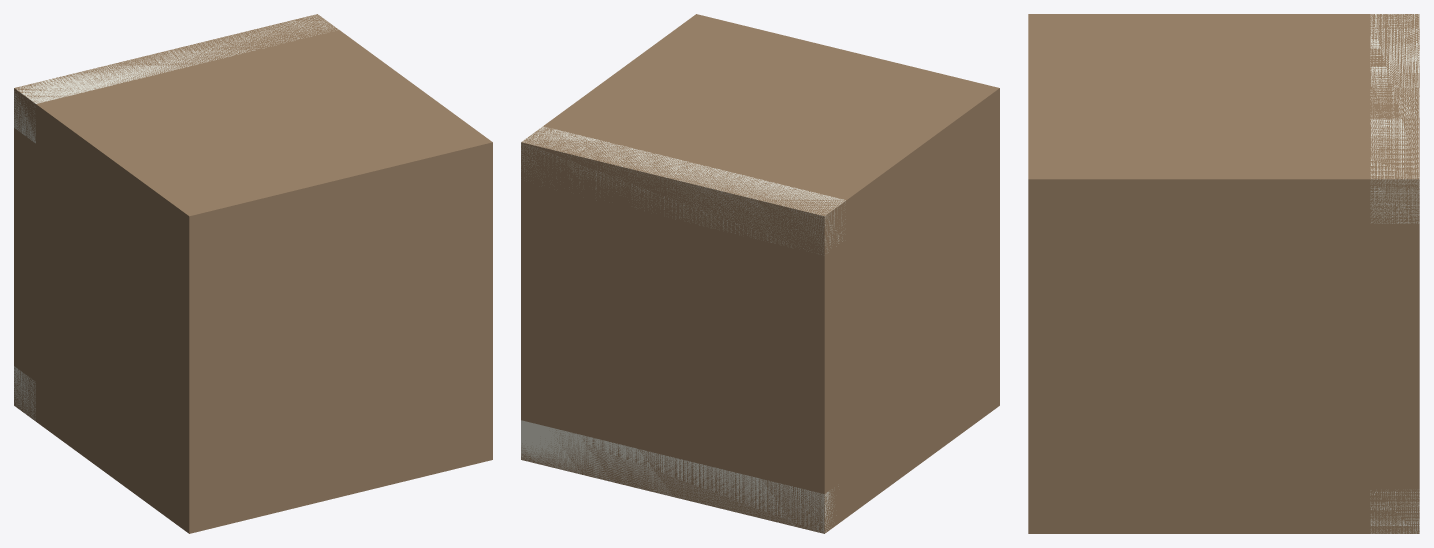
Rendered from prop_crate.glb.
The picture shows the model from 3 angles, left to right: view 1: azimuth 30°, elevation 25°; view 2: azimuth 150°, elevation 25°; view 3: azimuth 270°, elevation 25°; orthographic projection. The views are drawn at different scales.
Parts seen in each view (by area): view 1: prop_crate-col; view 2: prop_crate-col; view 3: prop_crate-col.
Part boxes in pixels (left/top/right/bottom): prop_crate-col: left=14, top=14, right=492, bottom=533; prop_crate-col: left=521, top=14, right=999, bottom=533; prop_crate-col: left=1028, top=14, right=1419, bottom=533.
Size of the model in its own units: 1 by 1 by 1.
